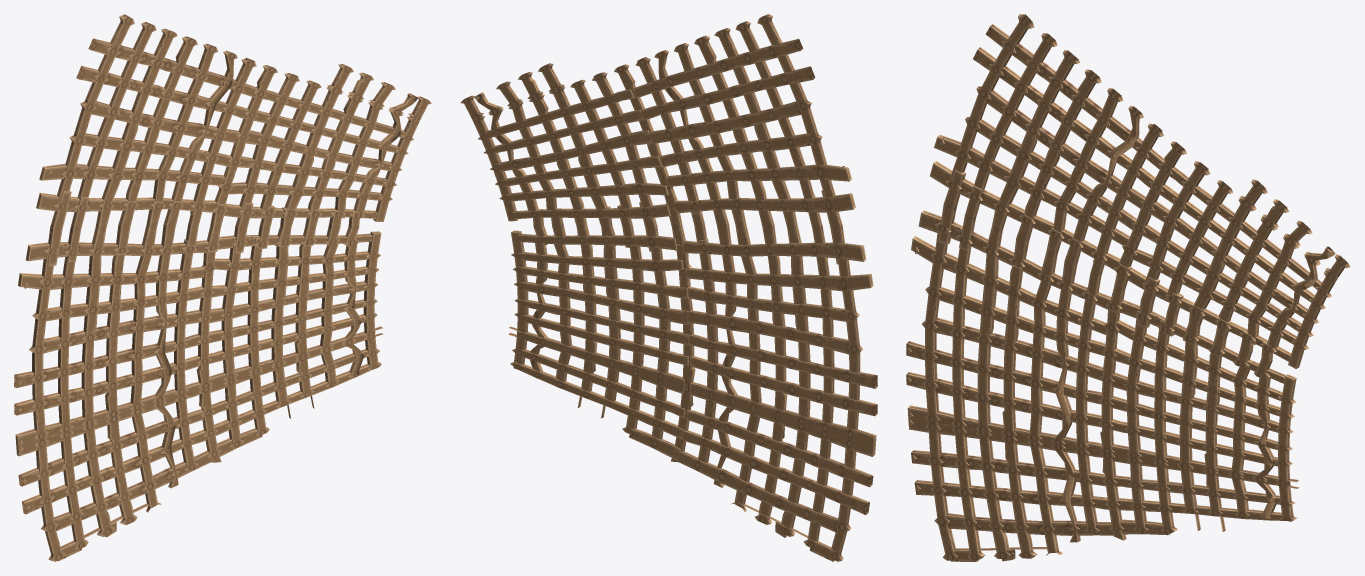
File: Grate_Circle.fbx
3 views of the same model, side by side, from view 1: azimuth 30°, elevation 25°; view 2: azimuth 150°, elevation 25°; view 3: azimuth 330°, elevation 25° (orthographic). The views are drawn at different scales.
Parts seen in each view (by area): view 1: Grate_Circle; view 2: Grate_Circle; view 3: Grate_Circle.
Boxes of the visible parts, <box> form: Grate_Circle: <box>14,14,431,561</box>; Grate_Circle: <box>460,14,877,561</box>; Grate_Circle: <box>906,14,1350,561</box>.
Size of the model in its own units: 1159 by 1412 by 19.05.
